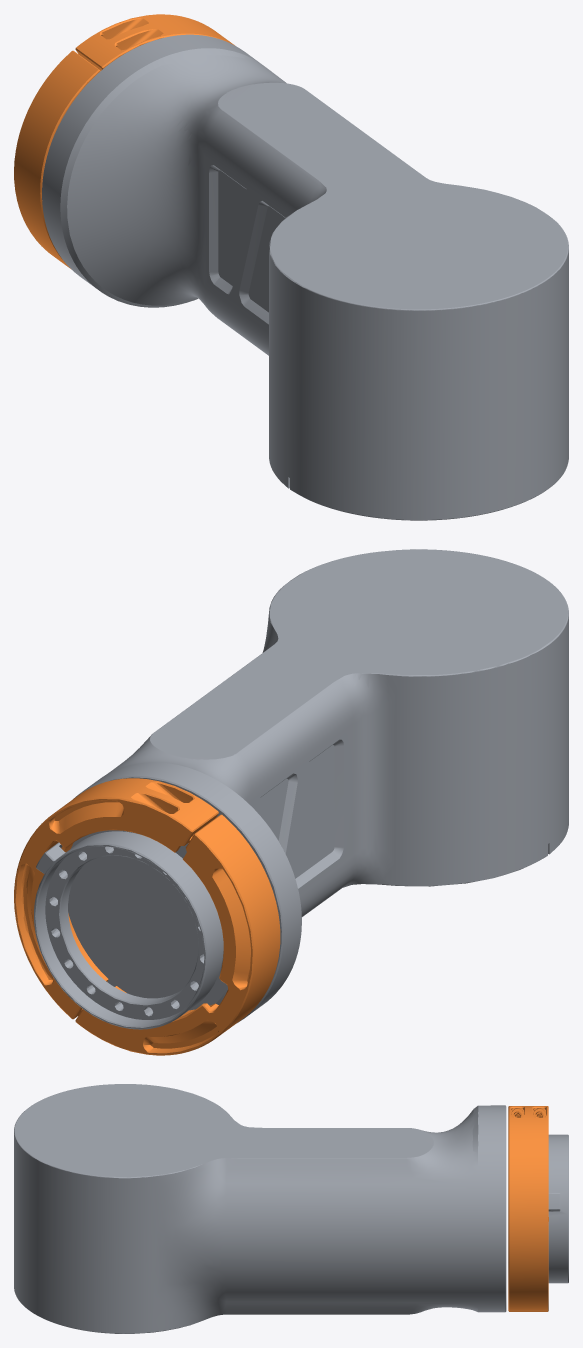
Rendered from right_arm_link3.glb.
3 views of the same model, one above another, from view 1: azimuth 30°, elevation 25°; view 2: azimuth 150°, elevation 25°; view 3: azimuth 270°, elevation 25° (orthographic). The views are drawn at different scales.
Visible parts, largest first — view 1: right_arm_link3; view 2: right_arm_link3; view 3: right_arm_link3.
Part boxes in pixels (x1,y1,x2,y2): right_arm_link3: (14,14,568,520); right_arm_link3: (14,549,568,1055); right_arm_link3: (14,1084,568,1333).
Bounding box in the file's own units: 0.1319 × 0.1226 × 0.3289.
